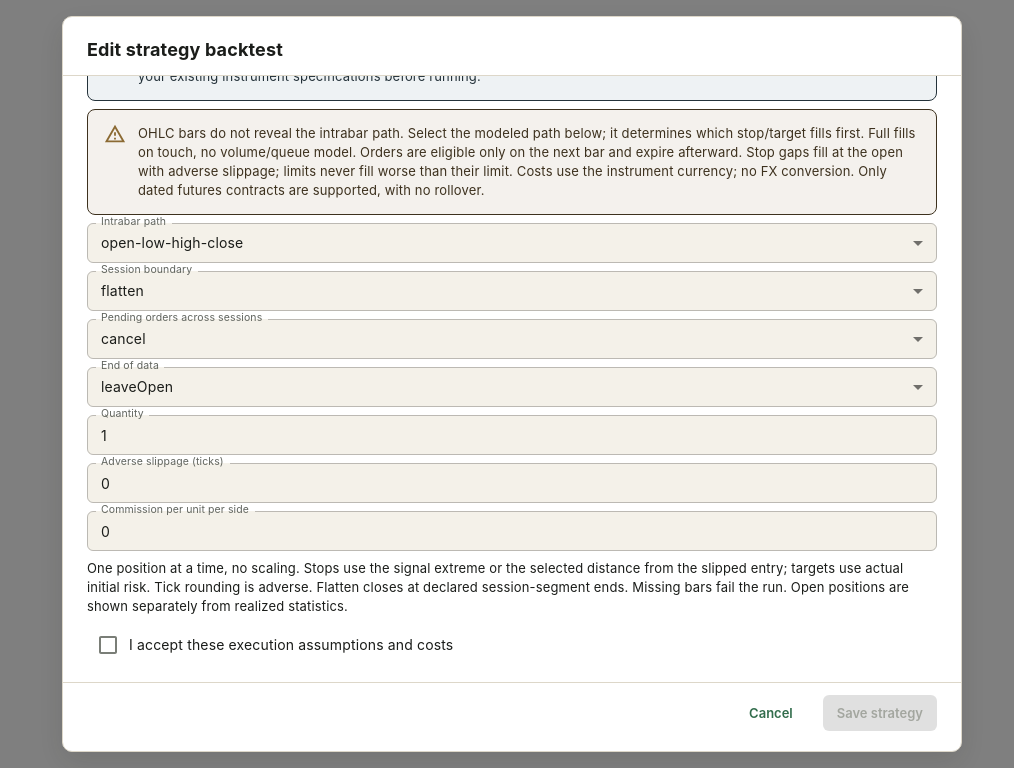
cost changes revoke acceptance and provider errors are visible
(page scrolled)
Click the checkbox labelled "I accept these execution assumptions and costs".
click(275, 645)  # box top-left (96, 633), bottom-right (453, 657)
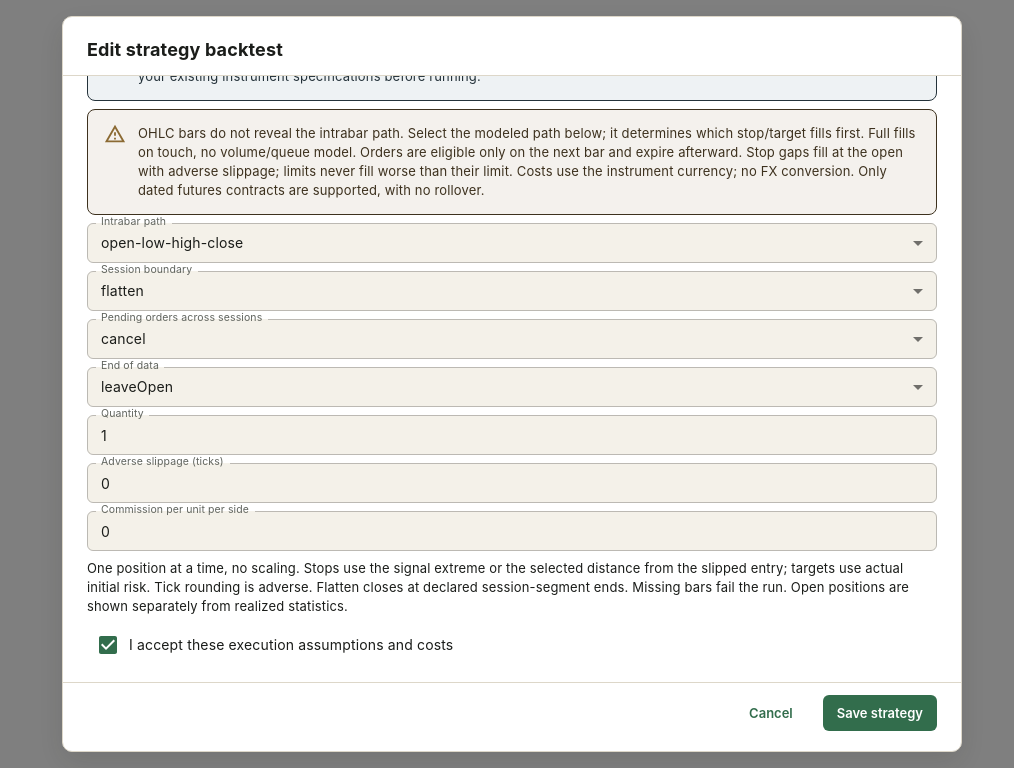
Replace the text in the number field labelled "Adverse slippage (ticks)" with "2" at (512, 483), box top-left (87, 464), bottom-right (937, 502)
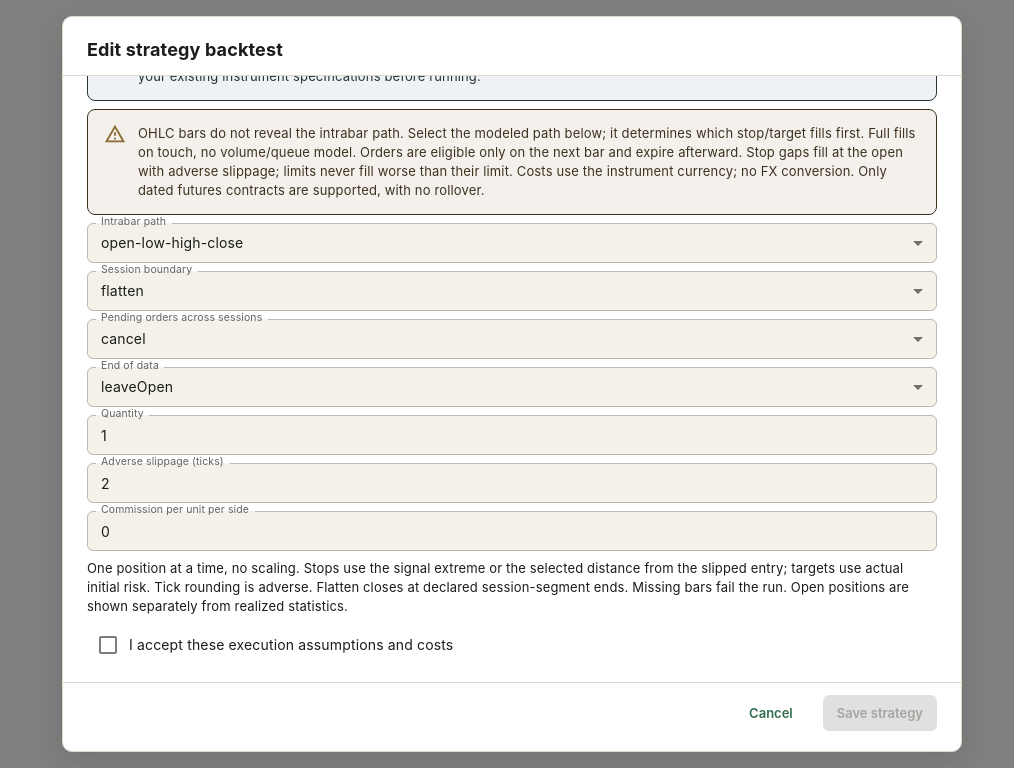
expect the button "Save strategy" is disabled: met, box top-left (823, 695), bottom-right (937, 731)
